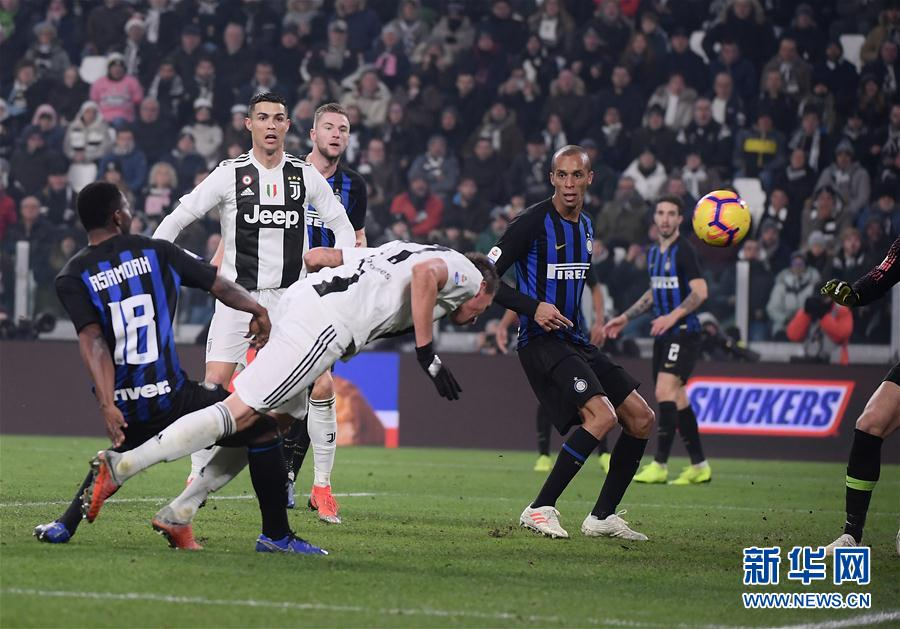ball: (691, 191, 751, 246)
